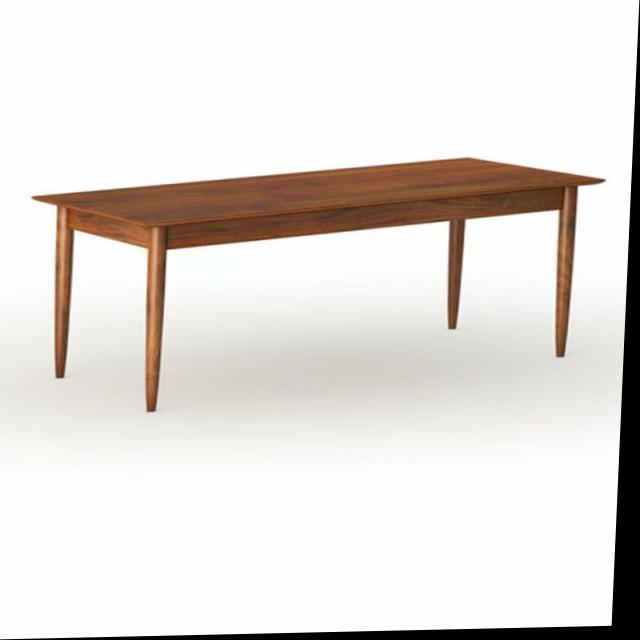Table: (17, 126, 630, 431)
